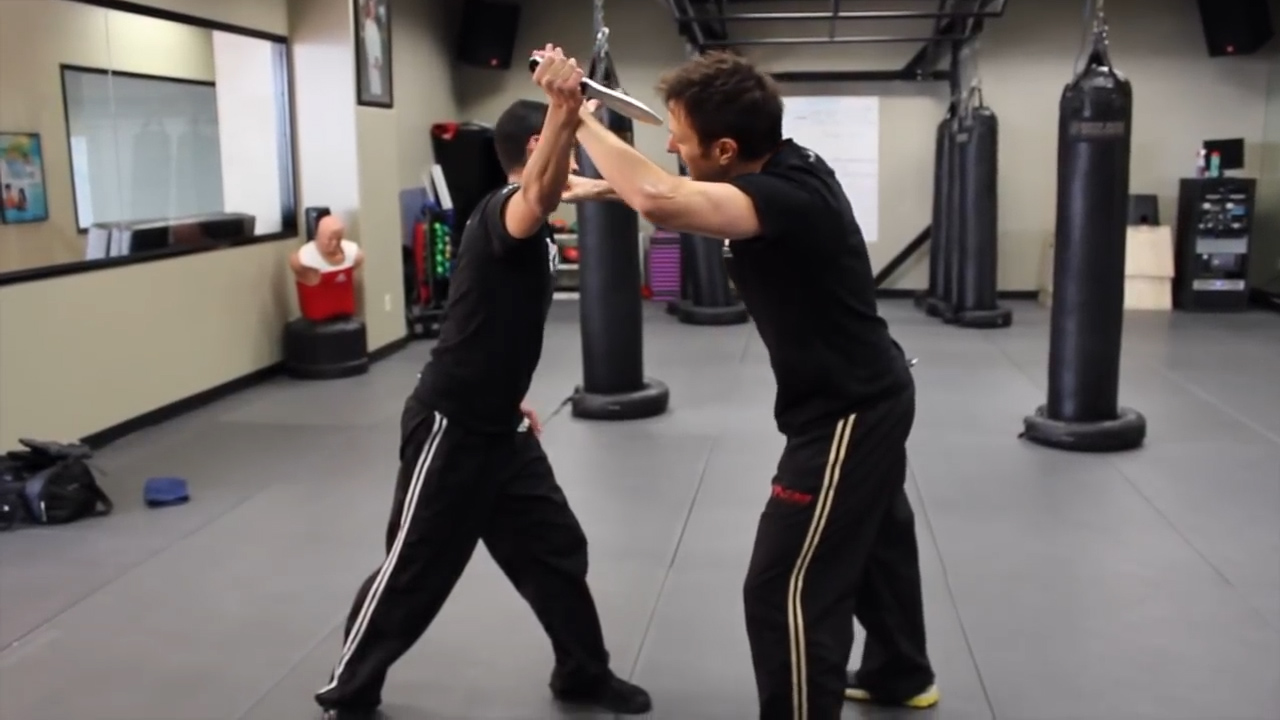knife: (525, 45, 669, 128)
